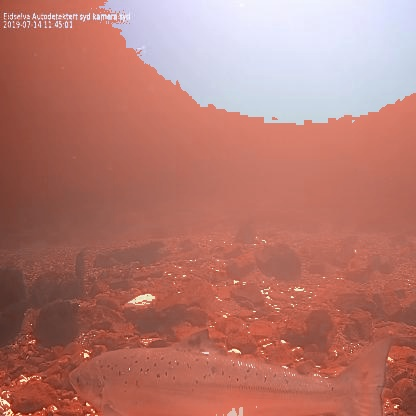salmon: (67, 330, 395, 416)
